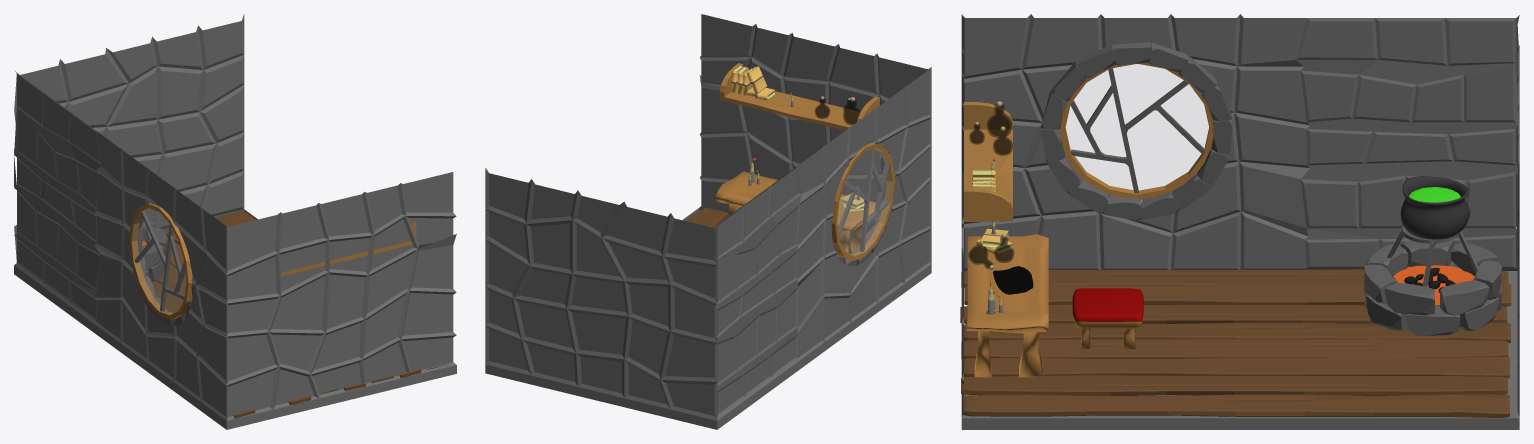
File: casa-bruja.glb
3 renders of one model, left to right at view 1: azimuth 30°, elevation 25°; view 2: azimuth 150°, elevation 25°; view 3: azimuth 270°, elevation 25°, orthographic. The views are drawn at different scales.
Visible parts, largest first — view 1: Pared, Ventana, Piedra arriba, Repisa, Piso.006; view 2: Pared, Ventana, Repisa, Mesa, Piso; view 3: Pared, Ventana, Piso, Piso.001, Piso.003, Piso.002, Mesa, Piso.007, Piedra arriba, Piso.005, Piso.004, Repisa (+8 smaller).
Part boxes in pixels (x1,y1,x2,y2): Pared: (14,14,456,429); Ventana: (129,203,193,326); Piedra arriba: (141,221,166,270); Repisa: (280,221,416,276); Piso.006: (152,281,311,404); Pared: (485,14,931,429); Ventana: (831,142,895,266); Repisa: (719,63,879,130); Mesa: (714,171,875,254); Piso: (686,207,728,227); Pared: (961,14,1519,429); Ventana: (1041,42,1232,220); Piso: (963,394,1509,417); Piso.001: (961,375,1507,395); Piso.003: (961,339,1508,358); Piso.002: (964,356,1509,378); Mesa: (966,234,1048,377); Piso.007: (964,322,1510,343); Piedra arriba: (1364,240,1501,315); Piso.005: (964,283,1511,306); Piso.004: (961,269,1508,287); Repisa: (964,102,1012,221).
Size of the model in its own units: 24.19 by 20.47 by 38.65.
